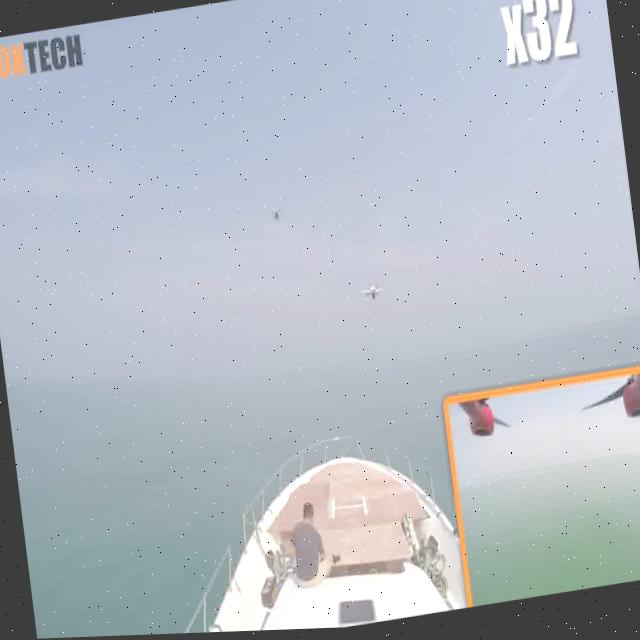drone: (357, 274, 385, 313), (264, 198, 286, 231)
